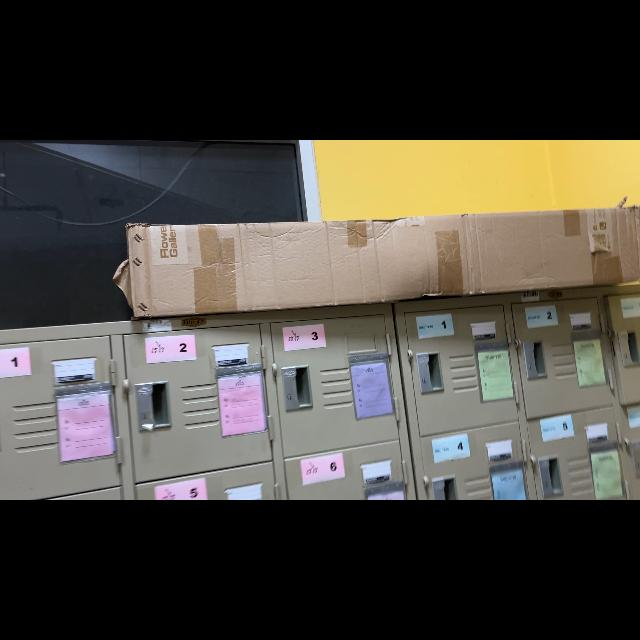cardboard_box: (116, 202, 640, 310)
